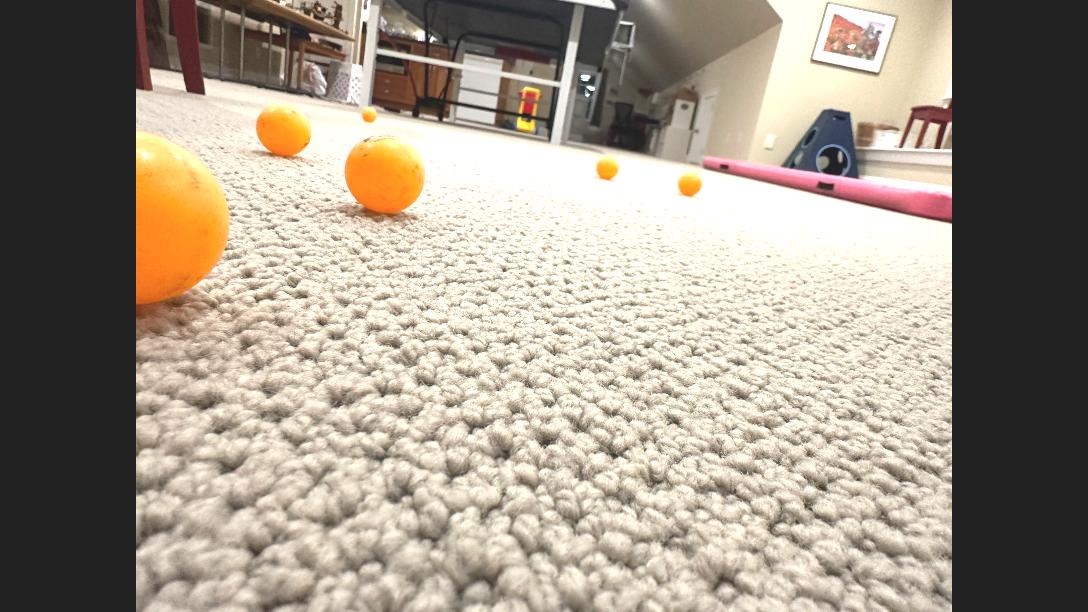Table-Tennis-Ball: (136, 130, 228, 304), (346, 134, 425, 212), (256, 103, 312, 156), (678, 170, 702, 196), (596, 155, 620, 179), (362, 106, 376, 122)
